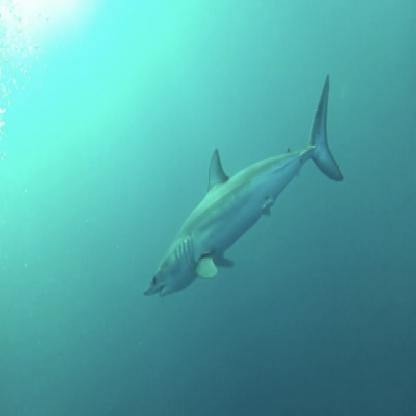Shark -Selachimorpha-: (143, 71, 346, 304)
